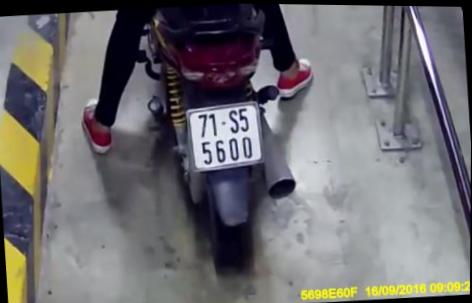LP: (186, 99, 266, 171)
